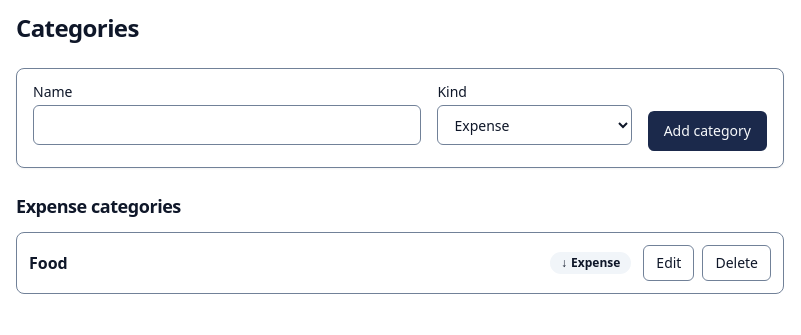
Test: edit a category (Story-004 AC-1) › T-029 Edit, change name and kind, Save shows the new values
Expected: the text "Food" is shown, [29,252,68,274]
Click the button with aria-label "Edit Food" at (669, 263), box [643,245,694,281]
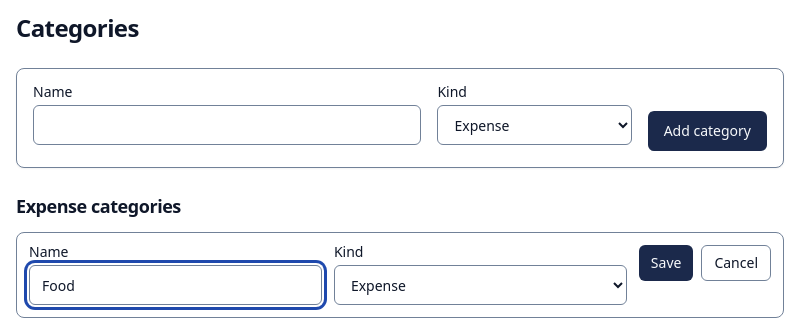
Replace the text in the field labelled "Name" below "Expense" with " Groceries " at (175, 285), box [29,265,322,305]
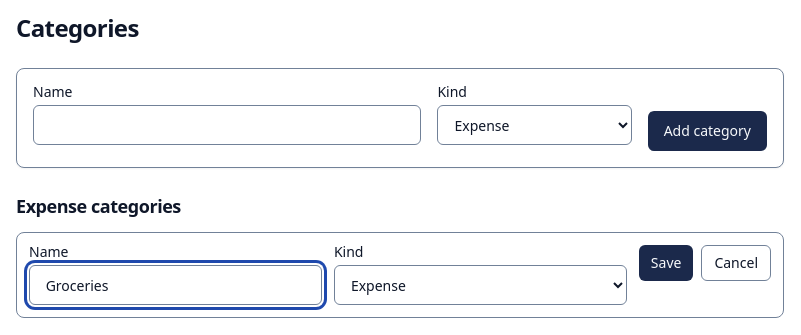
Select "Income" in the dropdown labelled "Kind" below "Expense" at (480, 285), box [334,265,627,305]
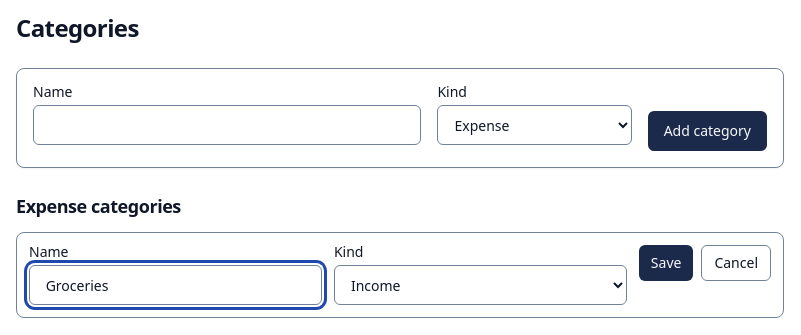
Click the button with aria-label "Save Food" at (666, 263), box [639,245,693,281]
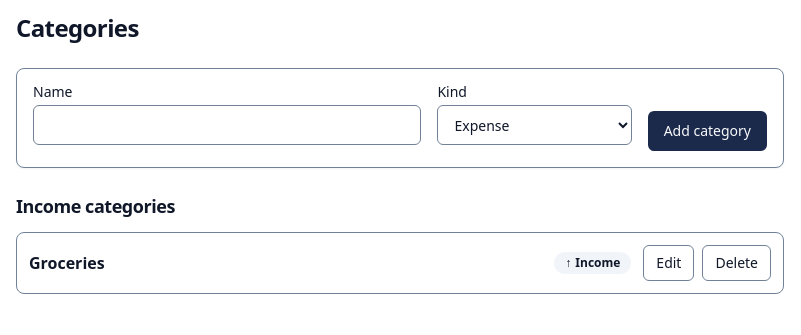
Expected: the text "Food" is not shown
Expected: the text "Groceries" is shown, [29,252,105,274]
Expected: the text "Income" is shown, [575,255,620,271]
